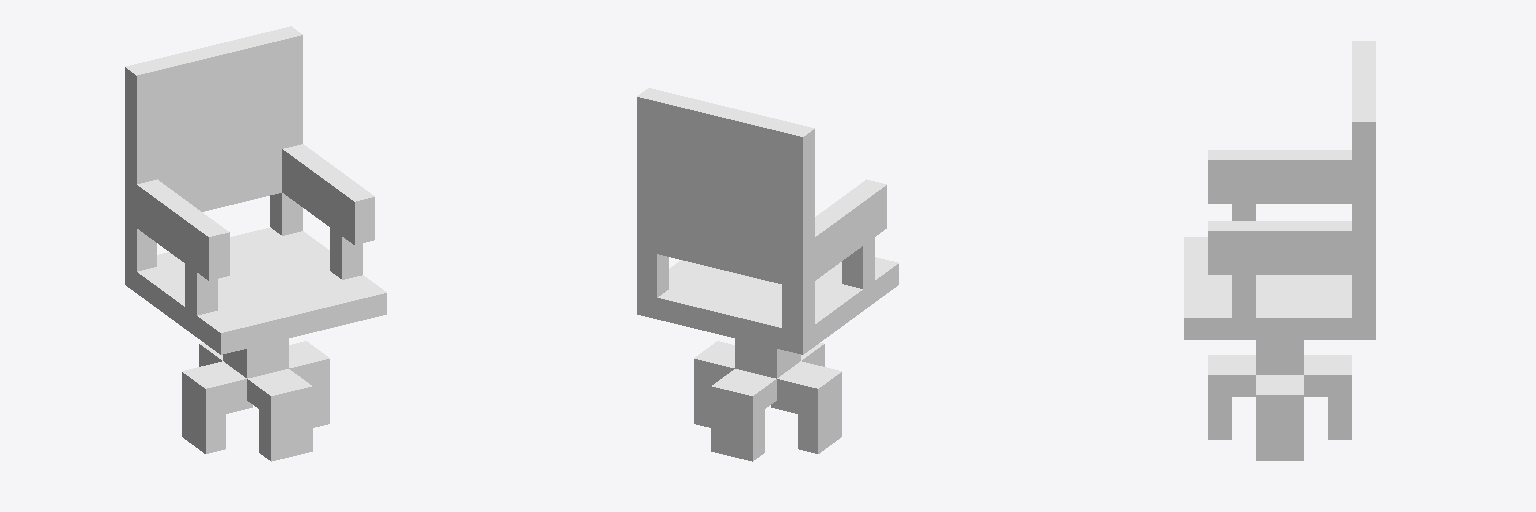
File: Desk_Chair.obj
3 renders of one model, left to right at view 1: azimuth 30°, elevation 25°; view 2: azimuth 150°, elevation 25°; view 3: azimuth 270°, elevation 25°, orthographic.
Parts seen in each view (by area): view 1: Desk_Chair; view 2: Desk_Chair; view 3: Desk_Chair.
Part boxes in pixels (x1,y1,x2,y2): Desk_Chair: (125,26,386,461); Desk_Chair: (637,88,898,461); Desk_Chair: (1184,41,1375,460).
Size of the model in its own units: 8 by 16 by 8.